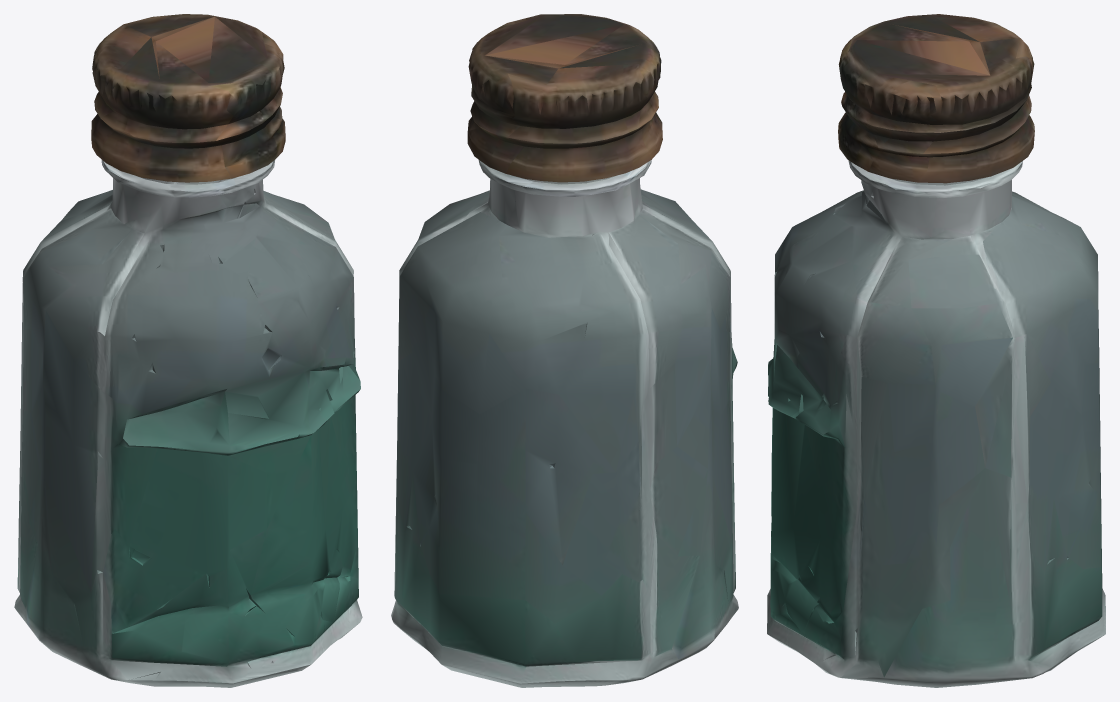
File: antiseptic_spirt_idle.glb
3 renders of one model, left to right at view 1: azimuth 30°, elevation 25°; view 2: azimuth 150°, elevation 25°; view 3: azimuth 270°, elevation 25°, orthographic.
Visible parts, largest first — view 1: tripo_node_46163a36-c294-43ed-bdc8-e769475496e9; view 2: tripo_node_46163a36-c294-43ed-bdc8-e769475496e9; view 3: tripo_node_46163a36-c294-43ed-bdc8-e769475496e9.
Boxes of the visible parts, x1,y1,x2,y2 form: tripo_node_46163a36-c294-43ed-bdc8-e769475496e9: (14, 14, 362, 687); tripo_node_46163a36-c294-43ed-bdc8-e769475496e9: (391, 14, 738, 687); tripo_node_46163a36-c294-43ed-bdc8-e769475496e9: (767, 14, 1105, 687).
Size of the model in its own units: 0.0756 by 0.1399 by 0.0747.
1 material, 1 textured.
